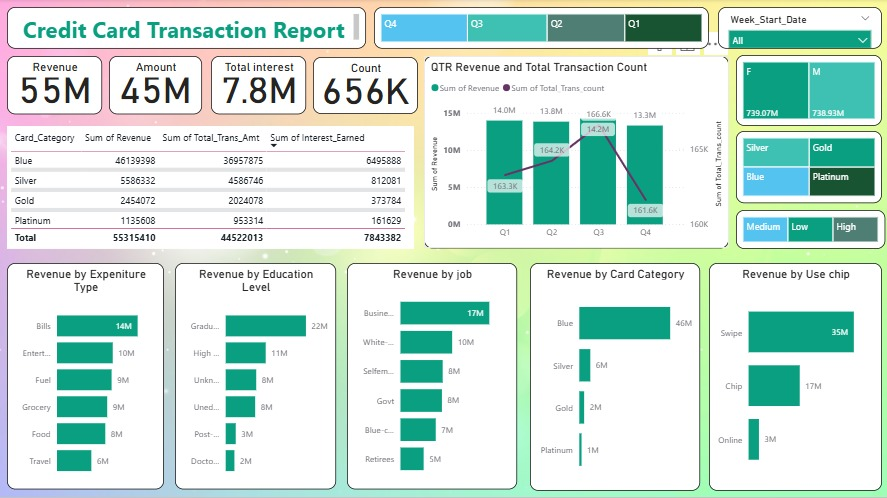

The page's visual inventory and layout, read from the dashboard file:
{"tool":"powerbi","page":{"name":"CC Transaction ","canvas":[1280,720],"ordinal":0},"visuals":[{"type":"textbox","box":[10.1,11.5,517,60.5],"z":0},{"type":"lineStackedColumnComboChart","title":"QTR Revenue and Total Transaction Count","fields":{"Category":["credit_card db.Qtr"],"Y":["Sum(credit_card db.Revenue)"],"Y2":["Sum(credit_card db.Total_Trans_Vol)"]},"box":[610.7,81.5,439.1,277.5],"z":1000},{"type":"barChart","title":"Revenue by Expeniture Type","fields":{"Y":["Sum(credit_card db.Revenue)"],"Category":["credit_card db.Exp Type"]},"box":[10,380.4,226,326.1],"z":2000},{"type":"barChart","title":"Revenue by Education Level","fields":{"Y":["Sum(credit_card db.Revenue)"],"Category":["customer_db.Education_Level"]},"box":[251.7,380.4,231.7,326.1],"z":3000},{"type":"barChart","title":"Revenue by  job","fields":{"Y":["Sum(credit_card db.Revenue)"],"Category":["customer_db.Customer_Job"]},"box":[499.1,380.4,244.6,326.1],"z":4000},{"type":"barChart","title":"Revenue by Card Category","fields":{"Y":["Sum(credit_card db.Revenue)"],"Category":["credit_card db.Card_Category"]},"box":[763.2,380.2,244.8,328.3],"z":5000},{"type":"barChart","title":"Revenue by Use chip","fields":{"Y":["Sum(credit_card db.Revenue)"],"Category":["credit_card db.Use Chip"]},"box":[1021.1,380.4,248.8,327.5],"z":6000},{"type":"tableEx","fields":{"Values":["credit_card db.Card_Category","Sum(credit_card db.Revenue)","Sum(credit_card db.Total_Trans_Amt)","Sum(credit_card db.Interest_Earned)"]},"box":[10.1,182.9,586.1,177.1],"z":7000},{"type":"card","title":"Revenue","fields":{"Values":["Sum(credit_card db.Revenue)"]},"box":[10.1,82.1,136.8,83.5],"z":8000},{"type":"card","title":"Amount","fields":{"Values":["Sum(credit_card db.Total_Trans_Amt)"]},"box":[157,82.1,133.9,83.5],"z":9000},{"type":"card","title":"Total interest","fields":{"Values":["Sum(credit_card db.Interest_Earned)"]},"box":[303.2,81.5,137.3,84.4],"z":10000},{"type":"card","title":"Count","fields":{"Values":["Sum(credit_card db.Total_Trans_Vol)"]},"box":[450.7,83.5,151.2,82.1],"z":11000},{"type":"slicer","fields":{"Values":["credit_card db.Week_Start_Date"]},"box":[1033.9,11.5,236.2,60.5],"z":12000},{"type":"treemap","fields":{"Group":["credit_card db.Qtr"],"Values":["Avg(customer_db.Client_Num)"]},"box":[538.6,11.5,482.4,60.5],"z":13000},{"type":"treemap","fields":{"Group":["customer_db.Gender"],"Values":["Avg(customer_db.Client_Num)"]},"box":[1059.8,80.6,210.2,102.2],"z":14000},{"type":"treemap","fields":{"Group":["credit_card db.Card_Category"],"Values":["Avg(customer_db.Client_Num)"]},"box":[1059.8,190.1,210.2,103.7],"z":15000},{"type":"treemap","fields":{"Group":["customer_db.Incomegroup"],"Values":["Avg(customer_db.Client_Num)"]},"box":[1059.8,303.8,214.6,56.2],"z":16000}]}

Visuals, with their boxes in screenshot pixels (x1, y1, x2, y2), scaled from the page's 1280x720 canvas onto the 887x498 screenshot:
textbox: [left=7, top=8, right=365, bottom=50]
"QTR Revenue and Total Transaction Count" lineStackedColumnComboChart: [left=423, top=56, right=727, bottom=248]
"Revenue by Expeniture Type" barChart: [left=7, top=263, right=164, bottom=489]
"Revenue by Education Level" barChart: [left=174, top=263, right=335, bottom=489]
"Revenue by  job" barChart: [left=346, top=263, right=515, bottom=489]
"Revenue by Card Category" barChart: [left=529, top=263, right=699, bottom=490]
"Revenue by Use chip" barChart: [left=708, top=263, right=880, bottom=490]
tableEx - credit_card db.Card_Category x Sum(credit_card db.Revenue): [left=7, top=127, right=413, bottom=249]
"Revenue" card: [left=7, top=57, right=102, bottom=115]
"Amount" card: [left=109, top=57, right=202, bottom=115]
"Total interest" card: [left=210, top=56, right=305, bottom=115]
"Count" card: [left=312, top=58, right=417, bottom=115]
slicer - credit_card db.Week_Start_Date: [left=716, top=8, right=880, bottom=50]
treemap - credit_card db.Qtr x Avg(customer_db.Client_Num): [left=373, top=8, right=708, bottom=50]
treemap - customer_db.Gender x Avg(customer_db.Client_Num): [left=734, top=56, right=880, bottom=126]
treemap - credit_card db.Card_Category x Avg(customer_db.Client_Num): [left=734, top=131, right=880, bottom=203]
treemap - customer_db.Incomegroup x Avg(customer_db.Client_Num): [left=734, top=210, right=883, bottom=249]
